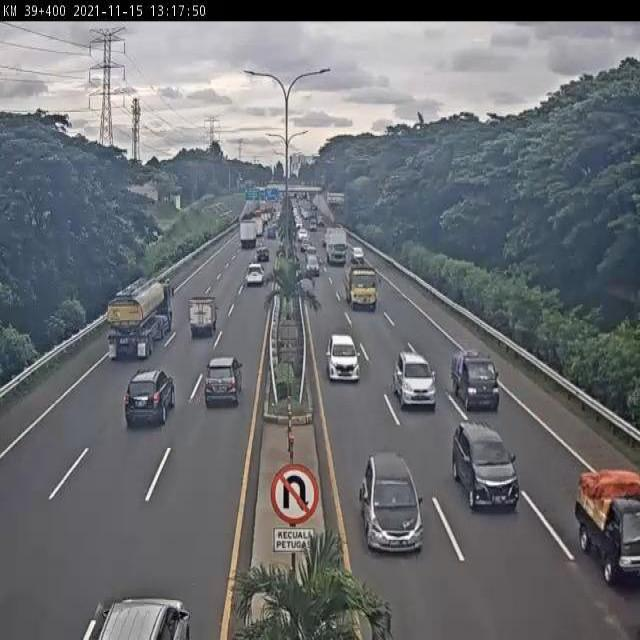car: (360, 452, 427, 559), (452, 419, 519, 512), (125, 367, 177, 428), (394, 352, 437, 411), (207, 355, 244, 408), (327, 334, 362, 386), (246, 263, 264, 285), (305, 255, 321, 277)
truck-m-: (342, 264, 381, 312)
truck-s-: (452, 351, 501, 416), (190, 294, 218, 334)
truck-xl-: (107, 278, 176, 358)
